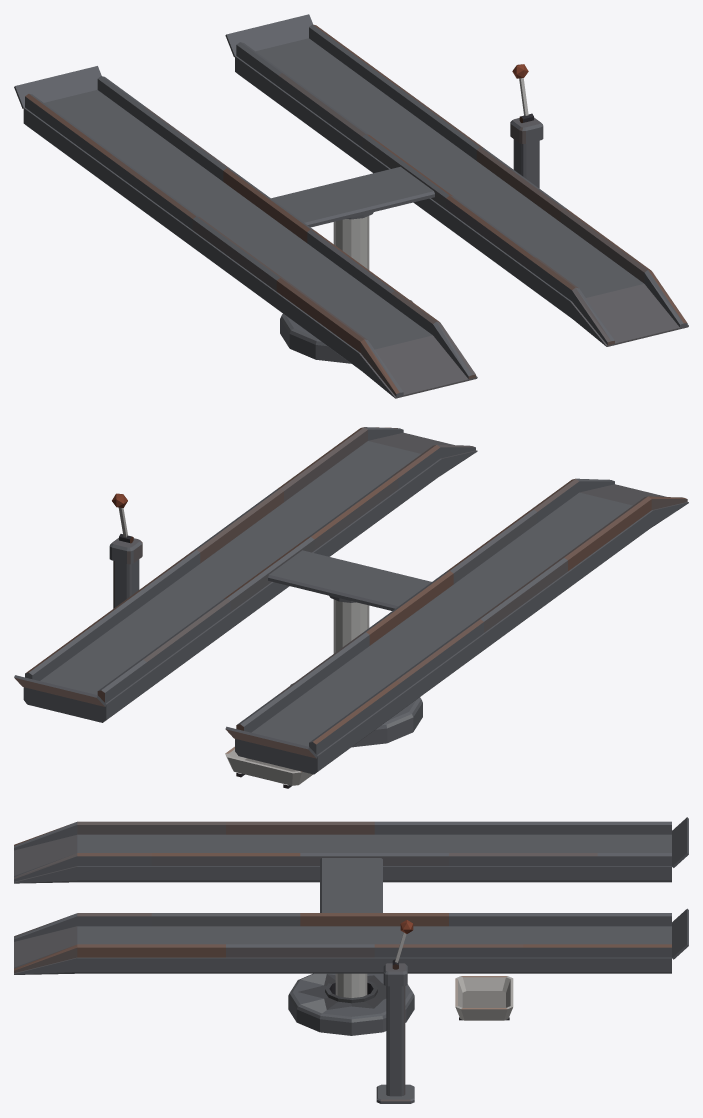
File: hydraulic-car-lift-a5dd34.glb
3 views of the same model, one above another, from view 1: azimuth 30°, elevation 25°; view 2: azimuth 150°, elevation 25°; view 3: azimuth 270°, elevation 25° (orthographic). The views are drawn at different scales.
Visible parts, largest first — view 1: lift; view 2: lift, drip-tray-mesh; view 3: lift, drip-tray-mesh.
Boxes of the visible parts, left/top/right/bottom form: lift: left=14, top=14, right=688, bottom=398; lift: left=14, top=427, right=688, bottom=774; drip-tray-mesh: left=225, top=746, right=312, bottom=788; lift: left=14, top=817, right=688, bottom=1103; drip-tray-mesh: left=455, top=976, right=513, bottom=1020.
Size of the model in its own units: 2.96 by 1.52 by 5.33.
